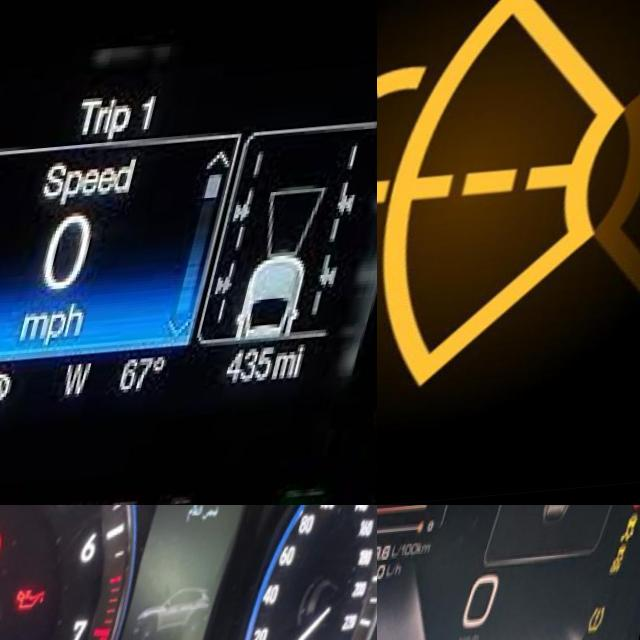Washer Fluid: (377, 0, 640, 401)
